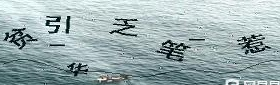chinese: (43, 14, 75, 35), (6, 28, 33, 48), (240, 34, 266, 53), (162, 40, 185, 61), (112, 16, 134, 37)
